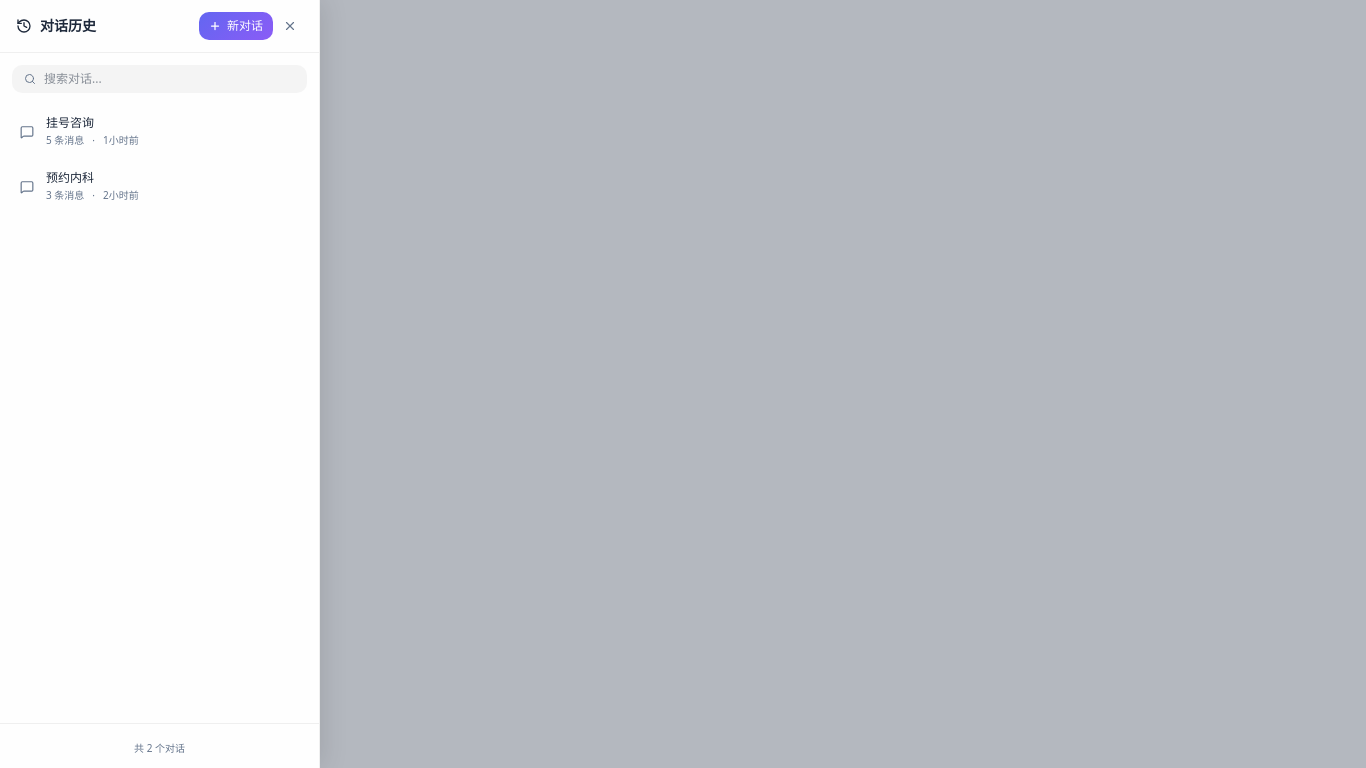
it: ChatHistory › should filter conversations by search query
Type "内科" into the field with placeholder "搜索对话..." at {"x": 170, "y": 79}, box [44, 71, 295, 87]
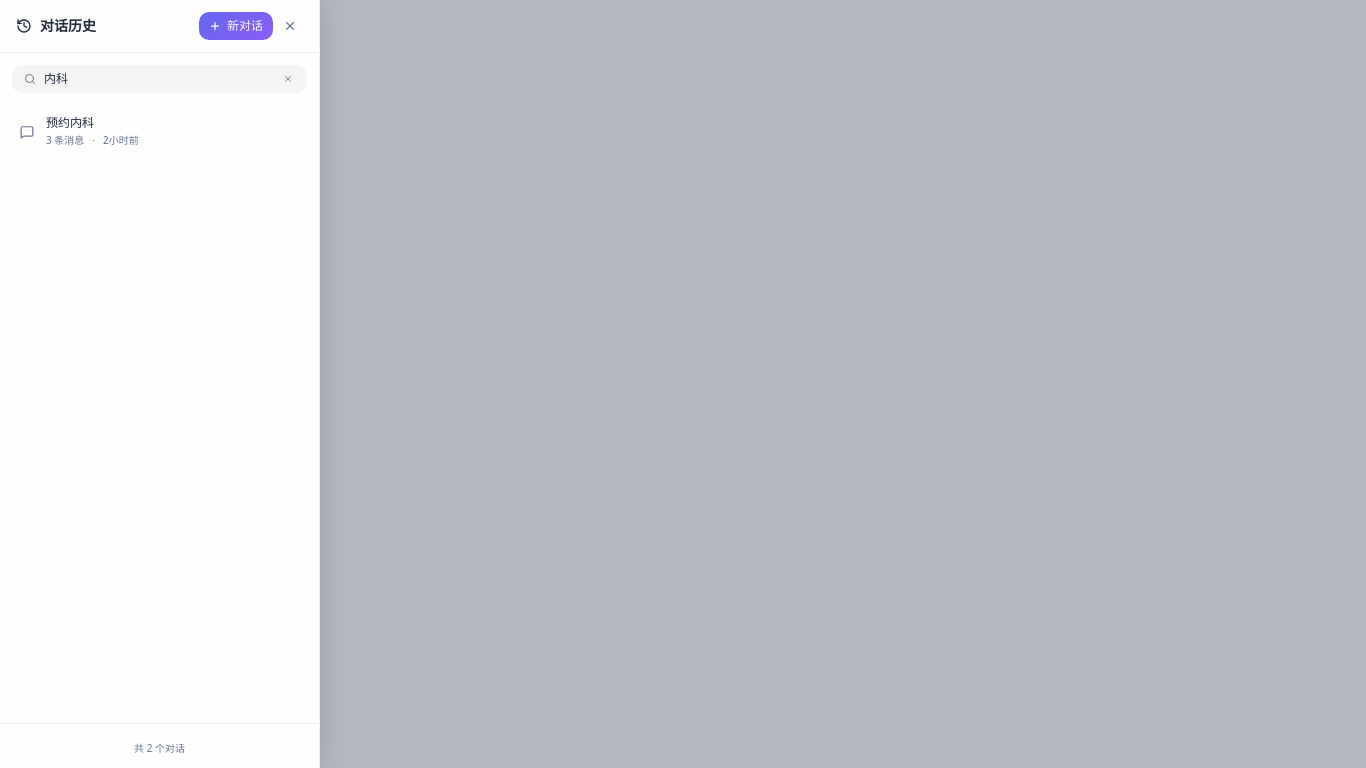
Expected: the text "预约内科" is shown, [46, 114, 94, 131]
Now the button "挂号咨询" is gone
